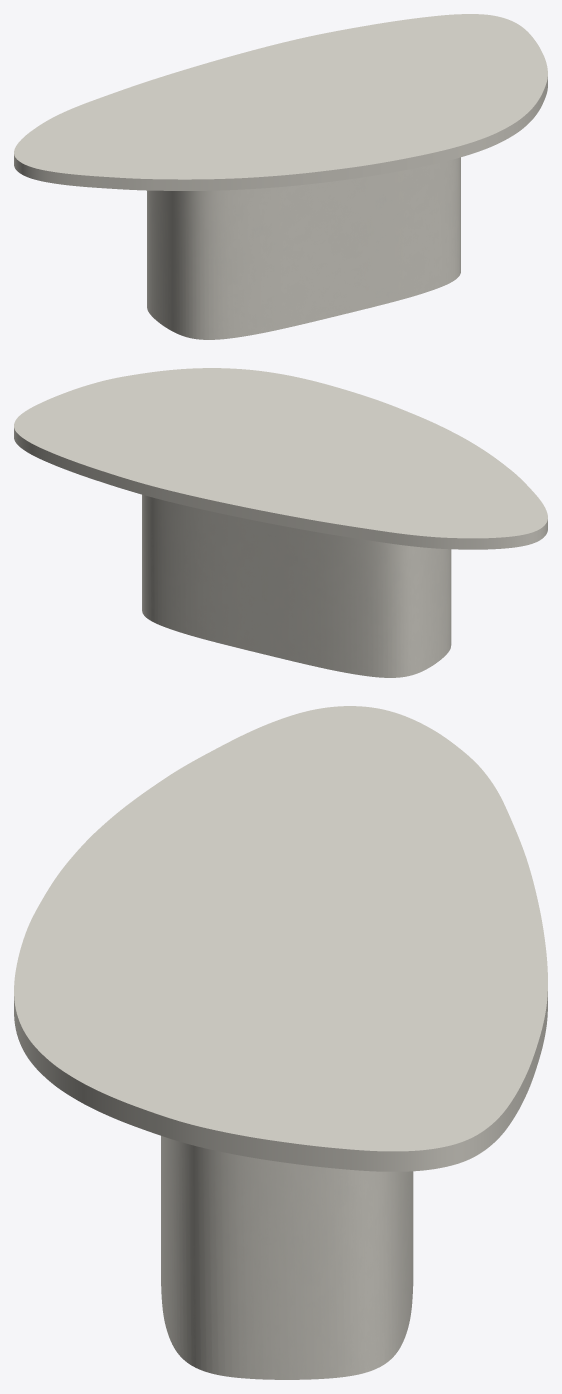
Rendered from pale_pebbletop_standard_fixed.glb.
3 renders of one model, top to bottom at view 1: azimuth 30°, elevation 25°; view 2: azimuth 150°, elevation 25°; view 3: azimuth 270°, elevation 25°, orthographic. The views are drawn at different scales.
Parts seen in each view (by area): view 1: standard_pebbletop, fixed; view 2: standard_pebbletop, fixed; view 3: standard_pebbletop, fixed.
Boxes of the visible parts, box(x1,y1,x2,y2) form: standard_pebbletop: box(14, 14, 547, 190); fixed: box(147, 157, 460, 339); standard_pebbletop: box(14, 368, 547, 549); fixed: box(142, 494, 451, 677); standard_pebbletop: box(14, 706, 547, 1171); fixed: box(161, 1136, 413, 1379).
Bounding box in the file's own units: 7.5 × 2.51 × 3.8.
1 material, 1 textured.
